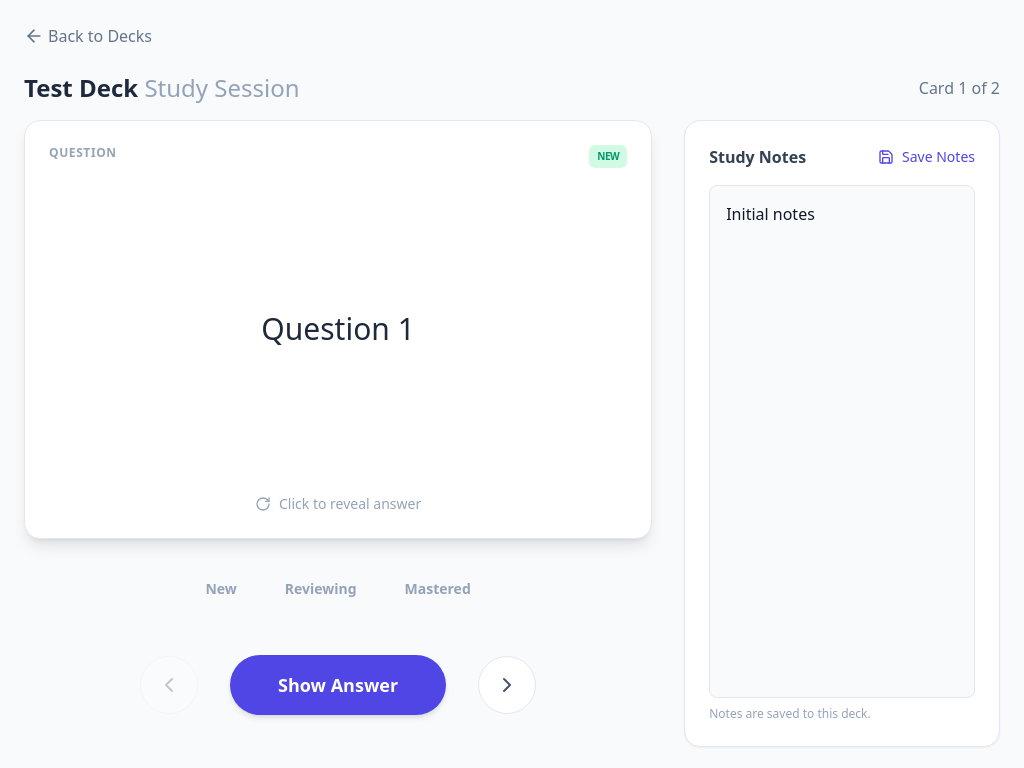
Test case: StudyMode Component › saves study notes
The image size is (1024, 768).
expect the heading "Study Notes" is shown: met, box [709,145,806,169]
Replace the text in the text box with placeholder "Type your notes here during your study session..." with "Updated study notes" at (842, 441), box [709,185,975,698]
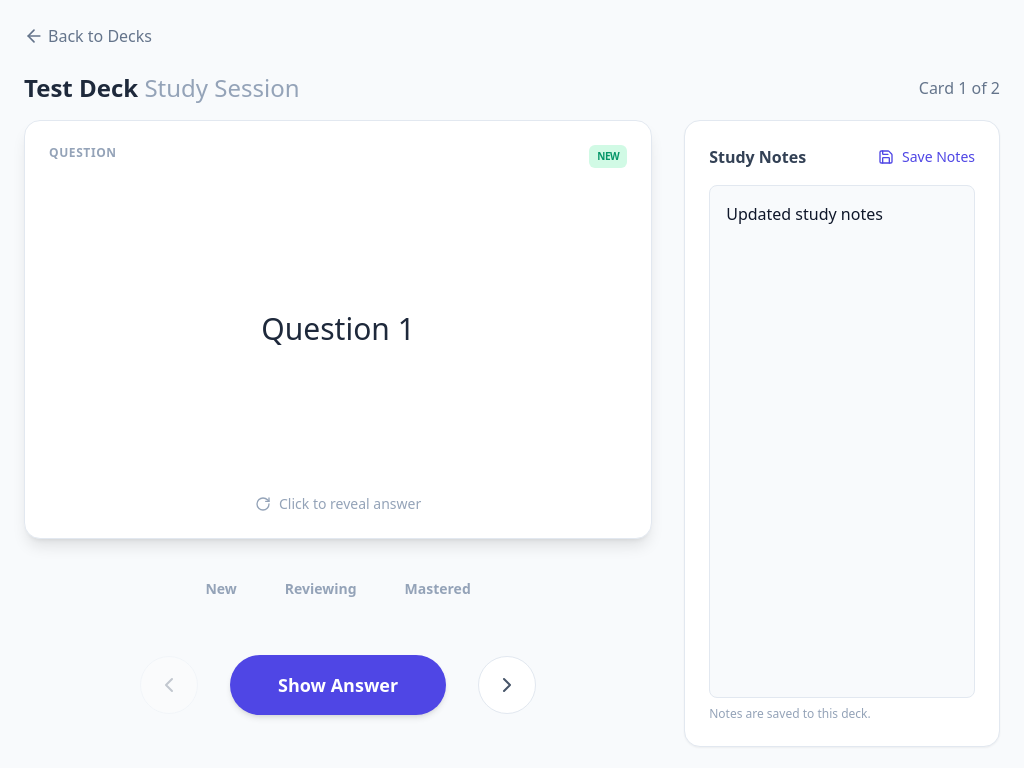
Click the button "Save Notes" at (926, 157), box [878,147,975,167]
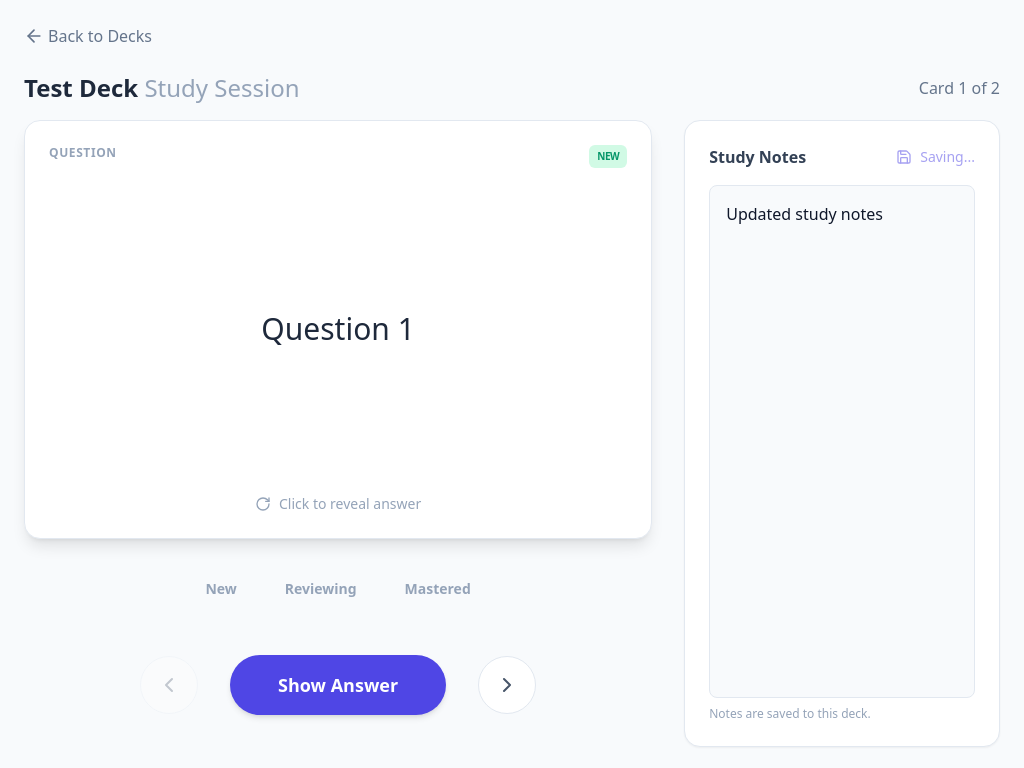
expect the button "Saving..." is shown: met, box [896,147,975,167]
